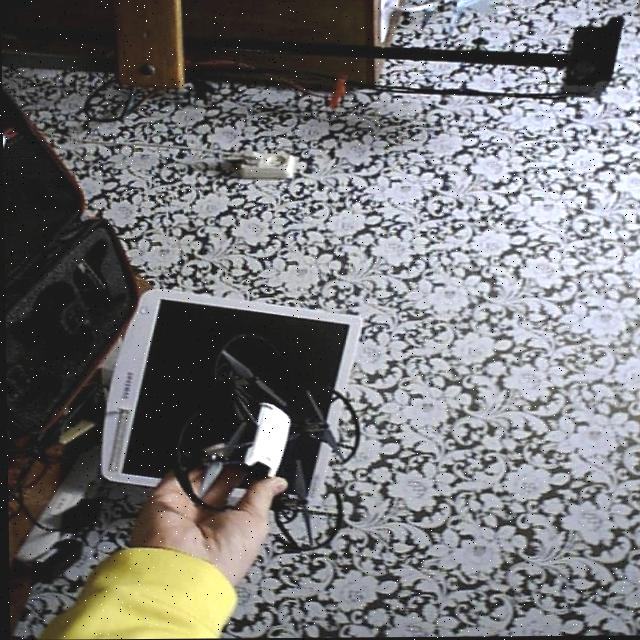drone: (152, 323, 370, 562)
